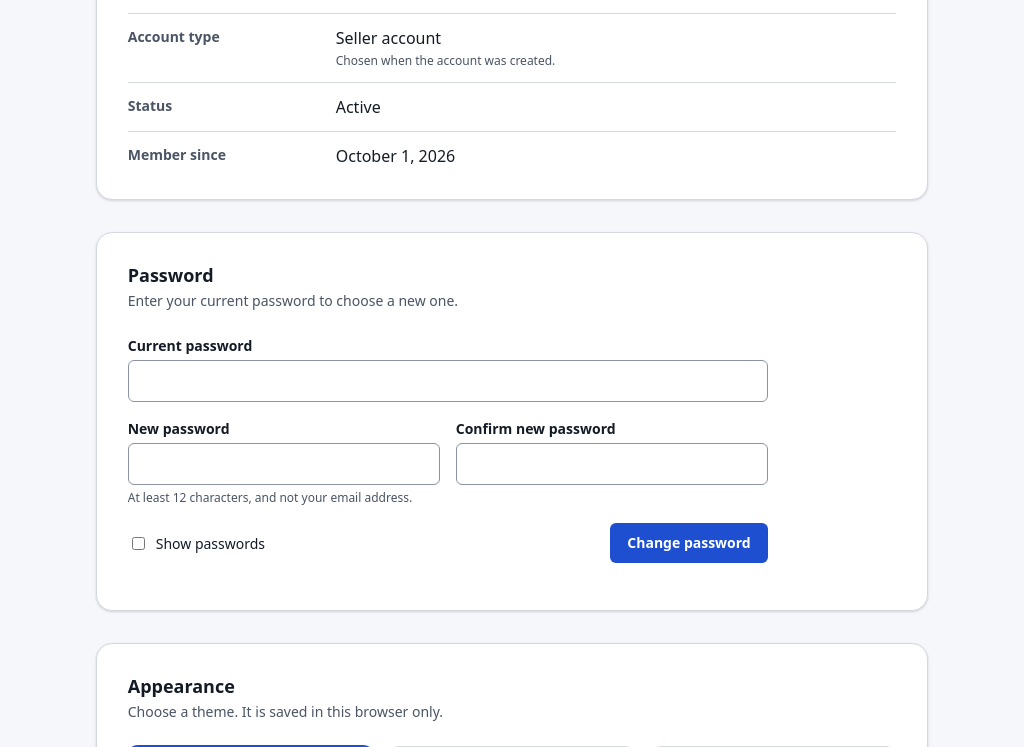
Scenario: AccountComponent › changes the password and clears the form
(page scrolled)
In the password field with id "account-current-password": (448, 381) [128,360,768,402], type "current-password-1"
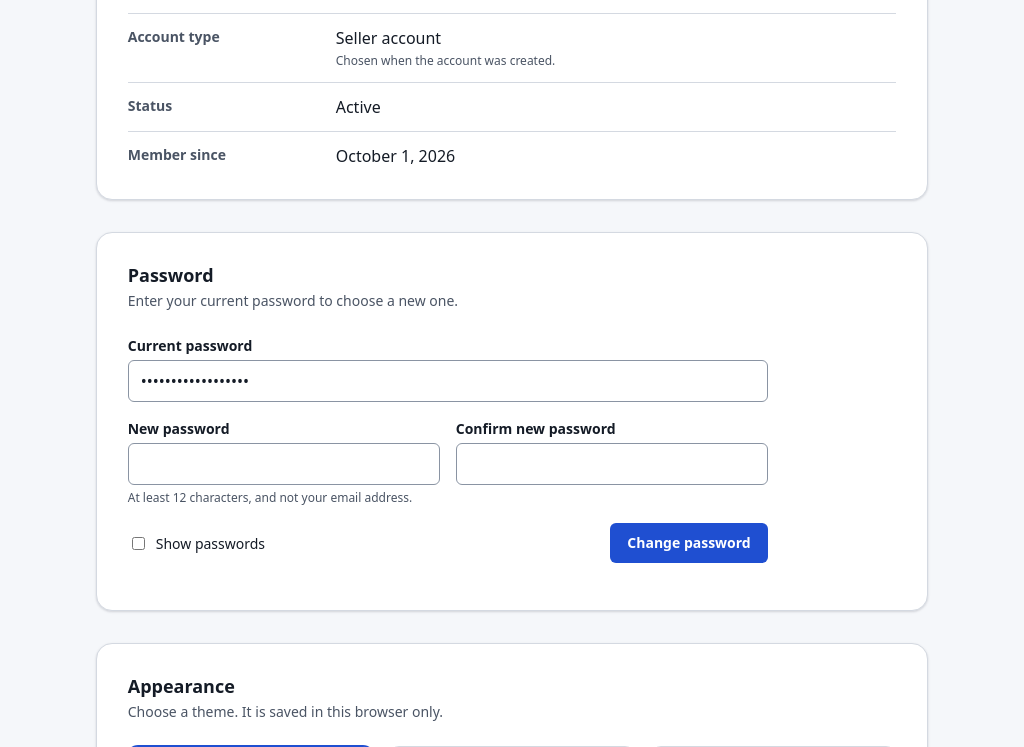
In the password field labelled "New password": (284, 464) [128,443,440,485], type "a brand new passphrase"
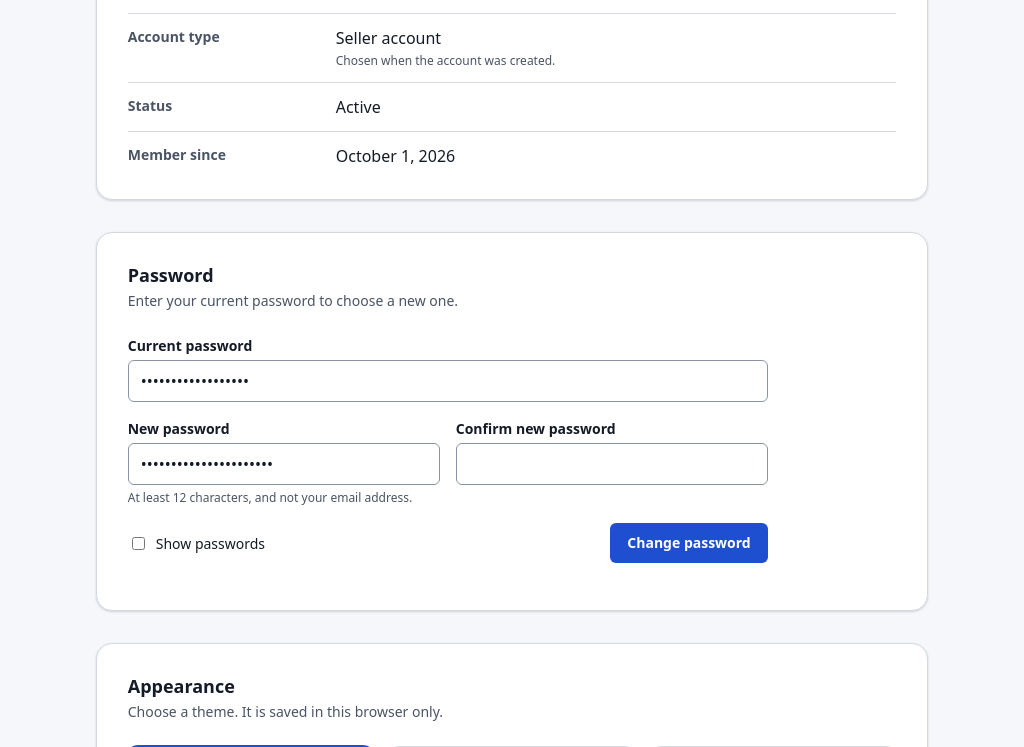
In the password field labelled "Confirm new password": (612, 464) [456,443,768,485], type "a brand new passphrase"
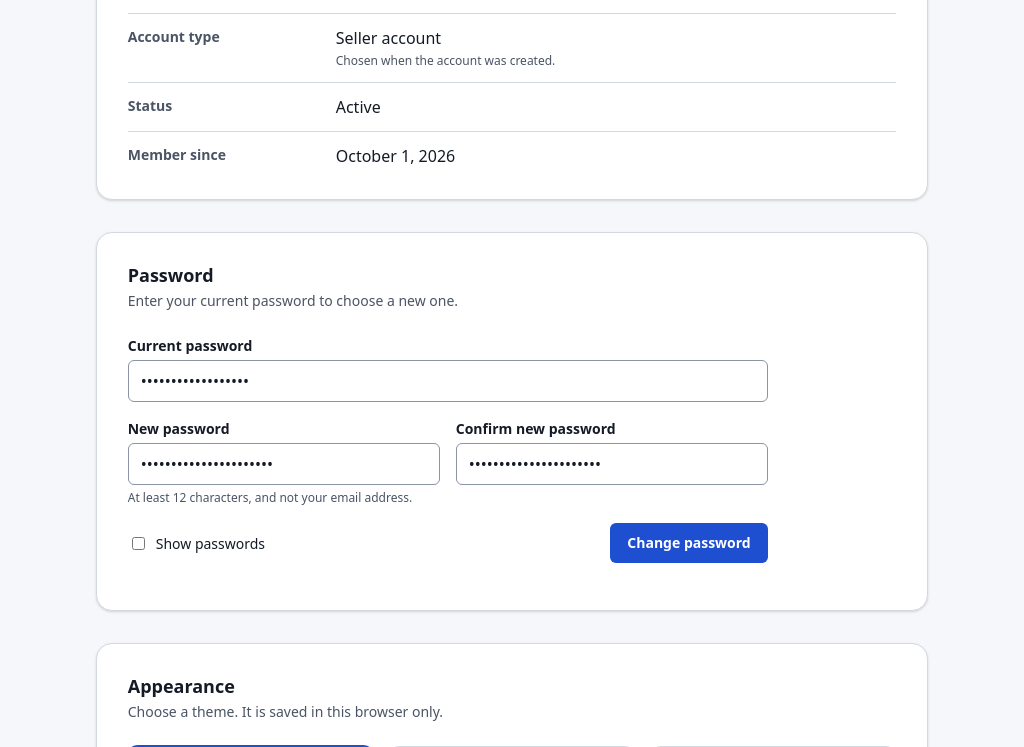
Click the button "Change password": (689, 543) [610,523,768,563]
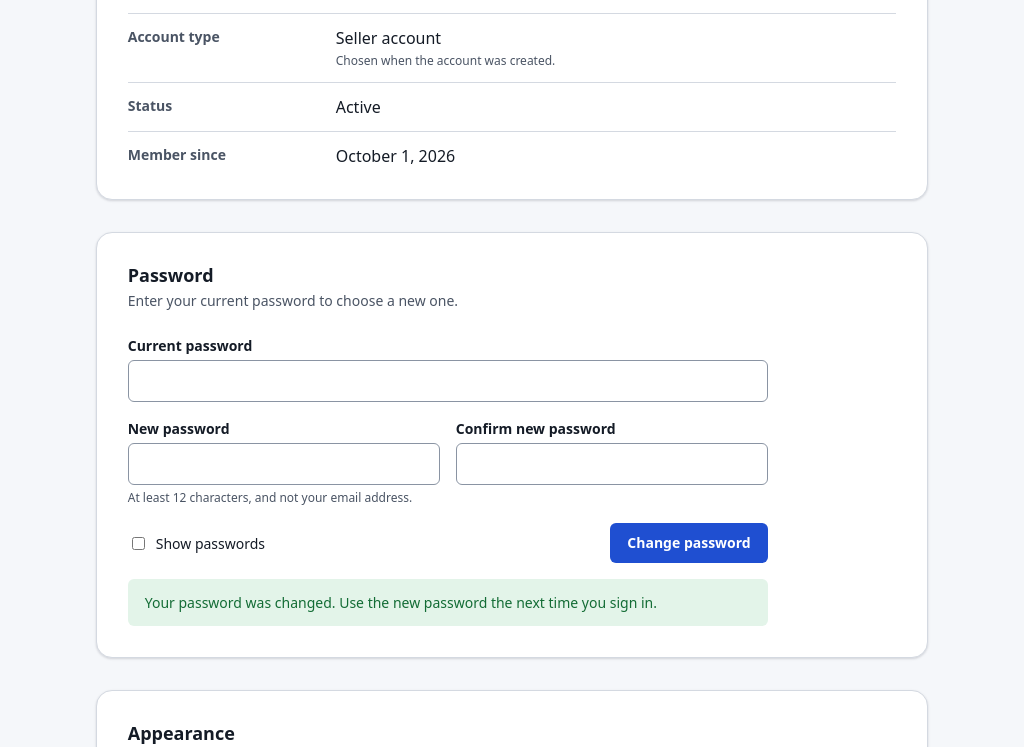
Result: the password field with id "account-current-password" is empty at [128,360,768,402]
Result: the text "Your password was changed." is shown at [145,593,657,612]
